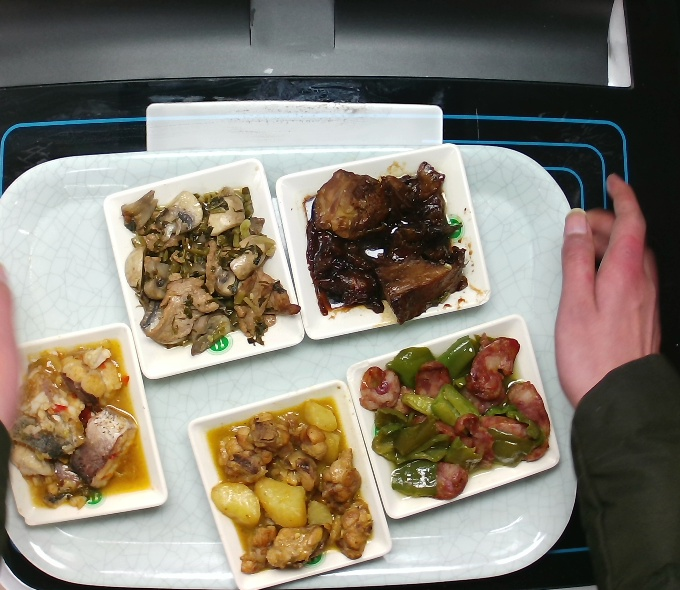wcq-DuoJiaoYuKuai: (8, 336, 154, 512)
wcq-JiangZhiYa: (300, 158, 471, 329)
wcq-MoGuRouPian: (118, 181, 305, 360)
wcq-QingJiaoXiangChang: (356, 328, 554, 503)
wcq-TuDouJiKuai: (201, 395, 378, 577)
